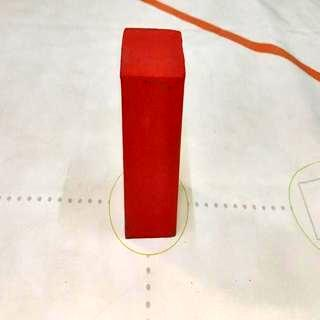redbox: (120, 27, 186, 238)
